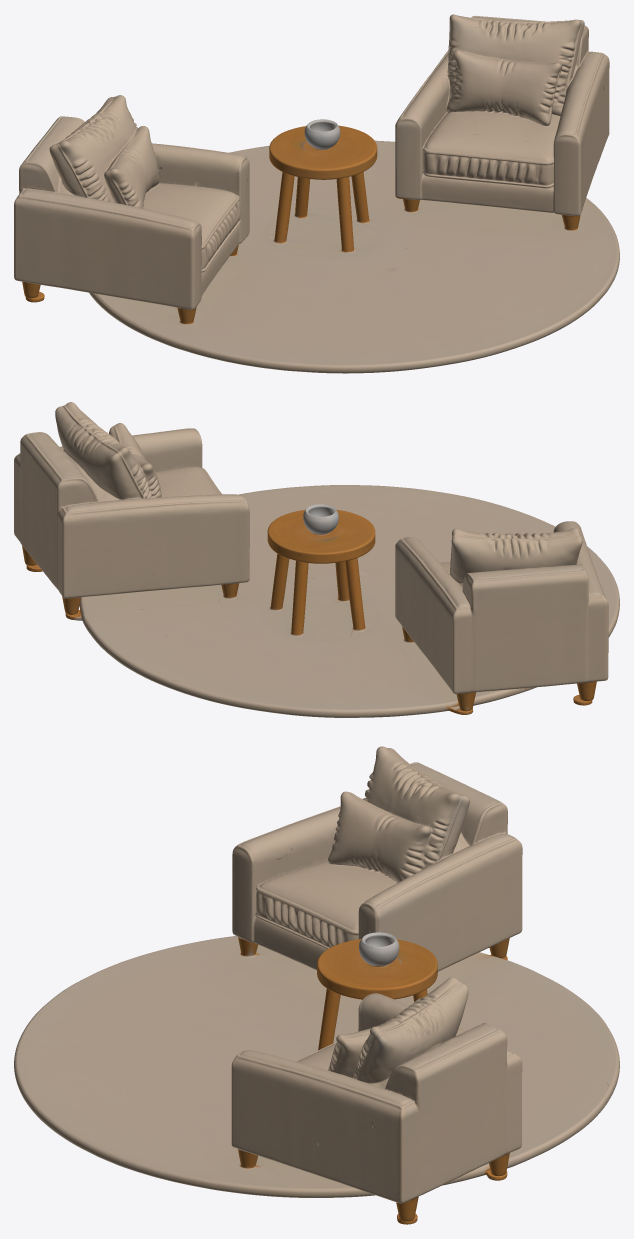
File: interior1.glb
3 renders of one model, top to bottom at view 1: azimuth 30°, elevation 25°; view 2: azimuth 150°, elevation 25°; view 3: azimuth 270°, elevation 25°, orthographic. The views are drawn at different scales.
Visible parts, largest first — view 1: texture_pbr_v128_0; view 2: texture_pbr_v128_0; view 3: texture_pbr_v128_0.
Part boxes in pixels (left/top/right/bottom): texture_pbr_v128_0: left=14, top=14, right=619, bottom=373; texture_pbr_v128_0: left=14, top=402, right=619, bottom=717; texture_pbr_v128_0: left=14, top=746, right=619, bottom=1224.
Size of the model in its own units: 4.47 by 1.16 by 3.49.
Materials: 1 (1 with a texture image).
